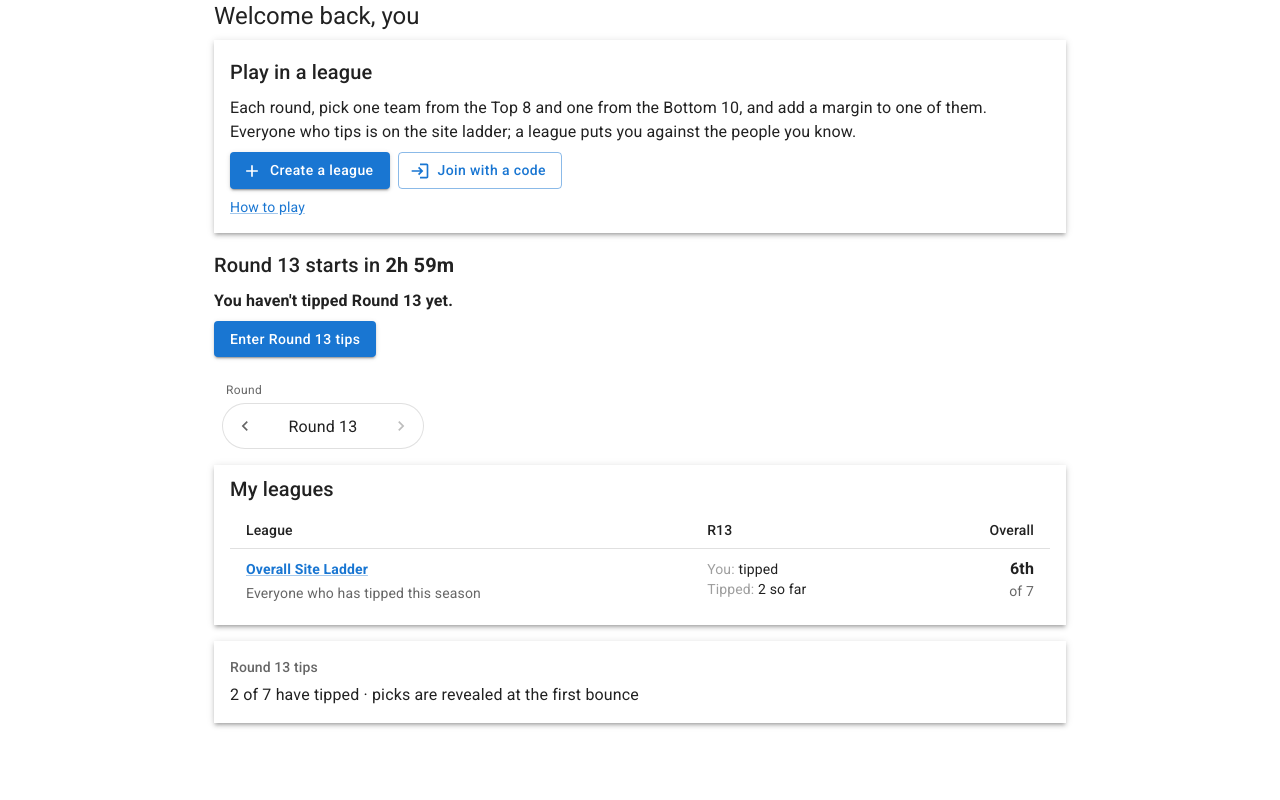
finding a league › somebody in no league is shown the way in
The width and height of the screenshot is (1280, 800).
Expected: the heading "Play in a league" is shown, top-left (230, 60), bottom-right (372, 84)
Click the button "Create a league" at (310, 171), box top-left (230, 152), bottom-right (390, 189)
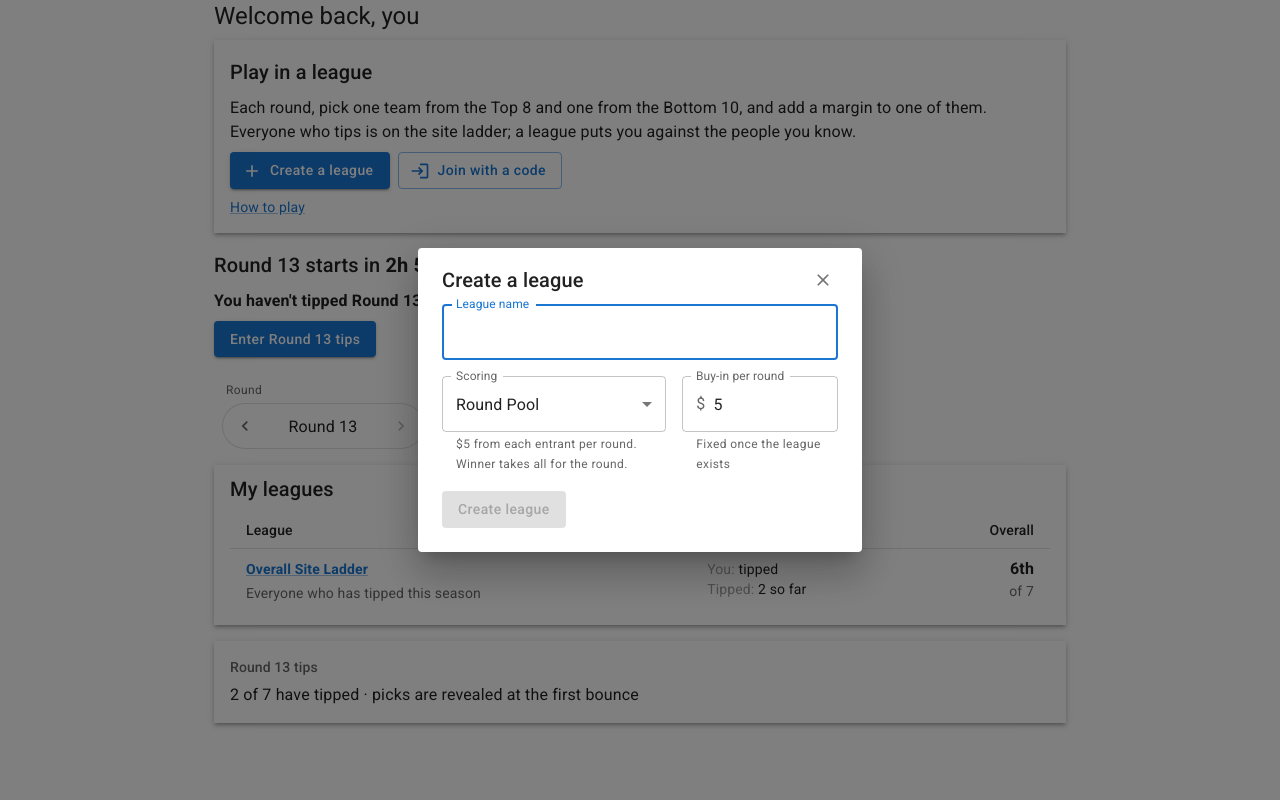
Now the heading "Create a league" is shown, box top-left (442, 264), bottom-right (584, 296)
